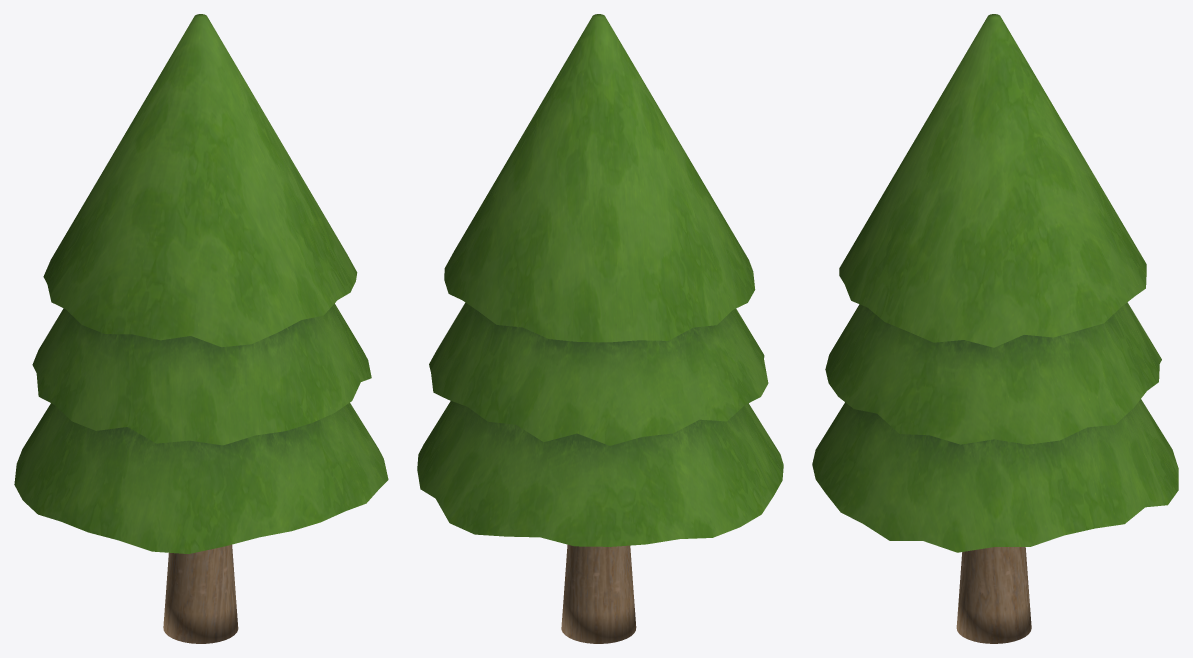
The model's file is Tree.fbx.
3 renders of one model, left to right at view 1: azimuth 30°, elevation 25°; view 2: azimuth 150°, elevation 25°; view 3: azimuth 270°, elevation 25°, orthographic.
Visible parts, largest first — view 1: Tree1; view 2: Tree1; view 3: Tree1.
Boxes of the visible parts, x1,y1,x2,y2 form: Tree1: [14, 14, 388, 643]; Tree1: [417, 14, 783, 643]; Tree1: [812, 14, 1178, 643].
Bounding box in the file's own units: 472 × 854 × 464.
